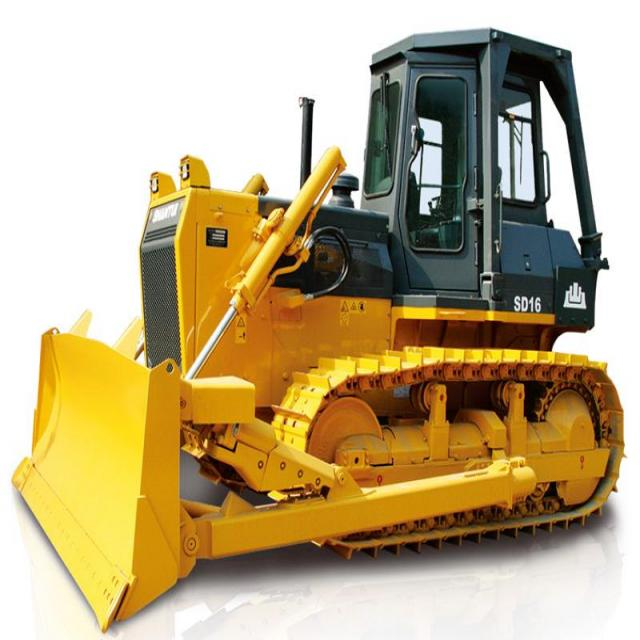Bulldozer: (11, 23, 639, 622)
